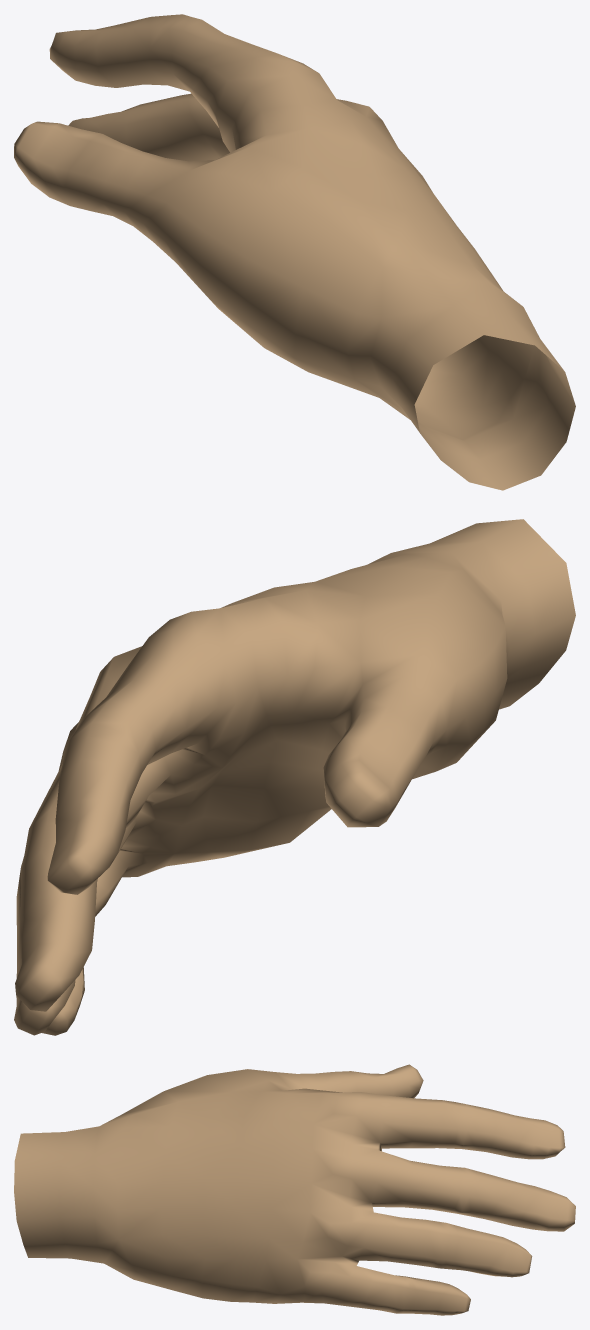
File: rightHand.fbx
3 renders of one model, top to bottom at view 1: azimuth 30°, elevation 25°; view 2: azimuth 150°, elevation 25°; view 3: azimuth 270°, elevation 25°, orthographic. The views are drawn at different scales.
Parts seen in each view (by area): view 1: Hand Topology; view 2: Hand Topology; view 3: Hand Topology.
Boxes of the visible parts, bbox=[...] form: Hand Topology: bbox=[14, 14, 575, 490]; Hand Topology: bbox=[14, 519, 575, 1035]; Hand Topology: bbox=[14, 1064, 575, 1315].
Size of the model in its own units: 1097 by 2297 by 933.
